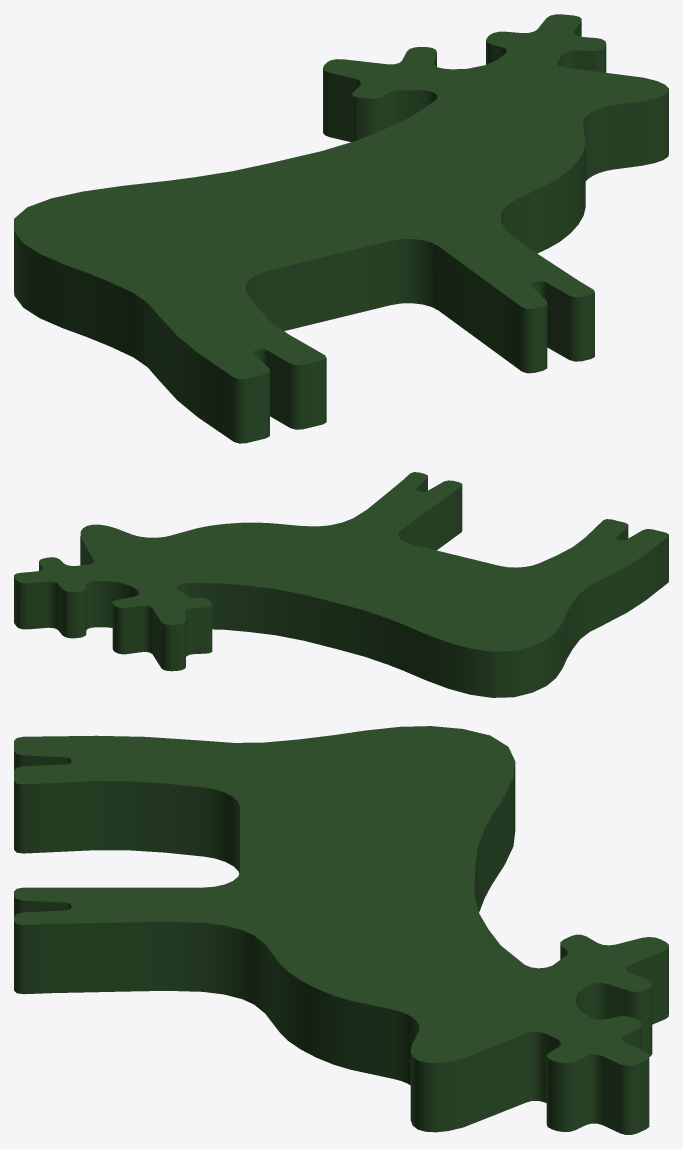
Rendered from Animal4.fbx.
3 views of the same model, one above another, from view 1: azimuth 30°, elevation 25°; view 2: azimuth 150°, elevation 25°; view 3: azimuth 270°, elevation 25° (orthographic). The views are drawn at different scales.
Parts seen in each view (by area): view 1: animal2; view 2: animal2; view 3: animal2.
Boxes of the visible parts, <box> form: animal2: <box>14,14,668,443</box>; animal2: <box>14,472,668,697</box>; animal2: <box>14,726,668,1134</box>.
Bounding box in the file's own units: 99.14 × 9.4 × 80.77.
